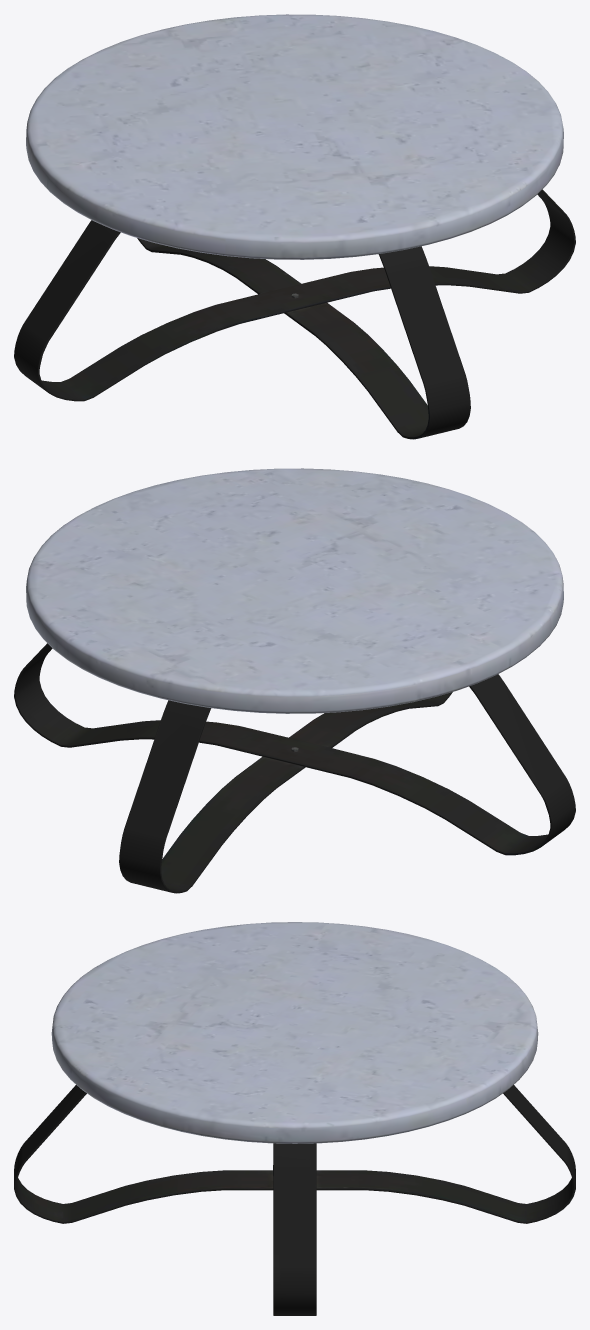
Rendered from ctable_round.glb.
3 views of the same model, one above another, from view 1: azimuth 30°, elevation 25°; view 2: azimuth 150°, elevation 25°; view 3: azimuth 270°, elevation 25° (orthographic). The views are drawn at different scales.
Visible parts, largest first — view 1: coffee_table_round_01; view 2: coffee_table_round_01; view 3: coffee_table_round_01.
Boxes of the visible parts, x1,y1,x2,y2 form: coffee_table_round_01: (14, 14, 575, 439); coffee_table_round_01: (14, 468, 575, 893); coffee_table_round_01: (14, 922, 575, 1315).
Bounding box in the file's own units: 1.3 × 0.4909 × 1.3.
1 material, 1 textured.
